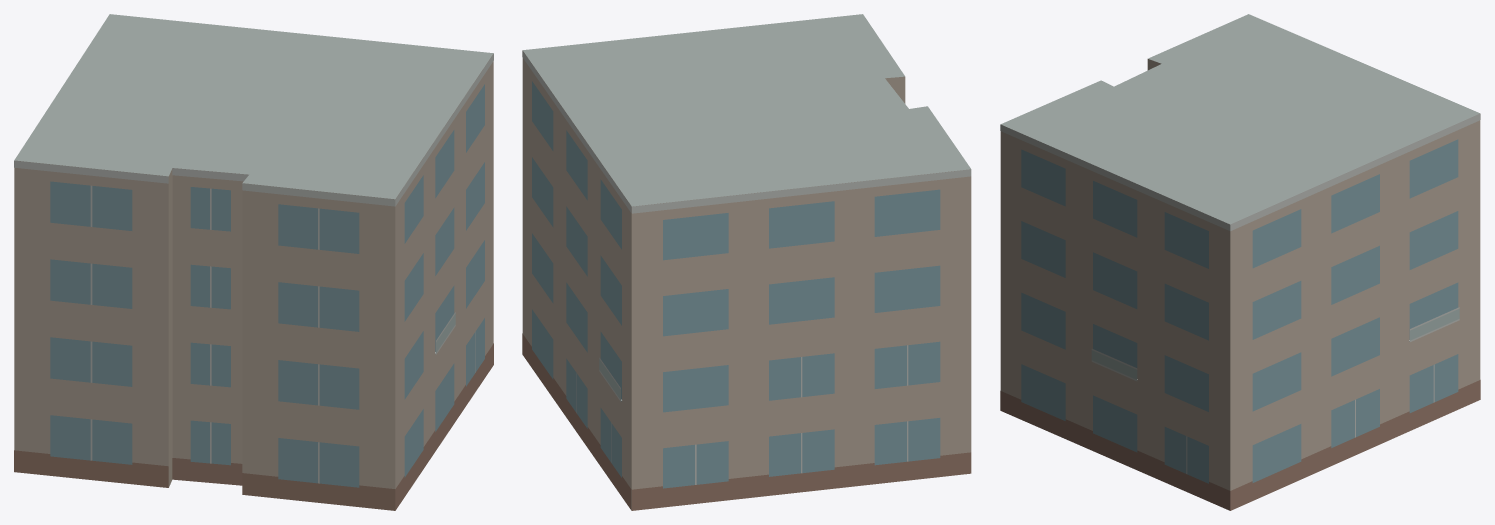
The model's file is survey-upis-32814417.glb.
The picture shows the model from 3 angles, left to right: view 1: azimuth 30°, elevation 25°; view 2: azimuth 150°, elevation 25°; view 3: azimuth 270°, elevation 25°; orthographic projection. The views are drawn at different scales.
Parts seen in each view (by area): view 1: survey-upis-32814417.tmp; view 2: survey-upis-32814417.tmp; view 3: survey-upis-32814417.tmp.
Boxes of the visible parts, x1,y1,x2,y2 form: survey-upis-32814417.tmp: (14, 14, 493, 510); survey-upis-32814417.tmp: (522, 14, 971, 510); survey-upis-32814417.tmp: (1000, 14, 1480, 510).
Bounding box in the file's own units: 16.41 × 10.4 × 15.81.
